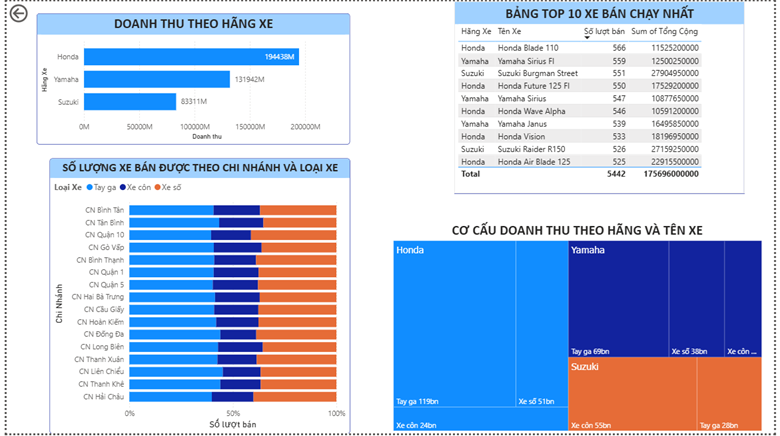

The page's visual inventory and layout, read from the dashboard file:
{"tool":"powerbi","page":{"name":"PHÂN TÍCH THEO SẢN PHẨM VÀ CHI NHANH","canvas":[1280,720],"ordinal":1},"visuals":[{"type":"clusteredBarChart","title":"DOANH THU THEO HÃNG XE","fields":{"Category":["he_thong_xe_may_KHB.Hãng Xe"],"Y":["Sum(he_thong_xe_may_KHB.Tổng Cộng)"]},"box":[49.9,19.2,522.5,219],"z":0},{"type":"treemap","title":"CƠ CẤU DOANH THU THEO HÃNG VÀ TÊN XE","fields":{"Group":["he_thong_xe_may_KHB.Hãng Xe"],"Details":["he_thong_xe_may_KHB.Loại Xe"],"Values":["Sum(he_thong_xe_may_KHB.Tổng Cộng)"]},"box":[639.7,361.1,624.3,359.2],"z":1},{"type":"hundredPercentStackedBarChart","title":"SỐ LƯỢNG XE BÁN ĐƯỢC THEO CHI NHÁNH VÀ LOẠI XE","fields":{"Category":["he_thong_xe_may_KHB.Chi Nhánh"],"Series":["he_thong_xe_may_KHB.Loại Xe"],"Y":["CountNonNull(he_thong_xe_may_KHB.ID Giao Dịch)"]},"box":[71.1,261.3,501.4,459.1],"z":2},{"type":"tableEx","title":"BẢNG TOP 10 XE BÁN CHẠY NHẤT","fields":{"Values":["he_thong_xe_may_KHB.Hãng Xe","he_thong_xe_may_KHB.Tên Xe","he_thong_xe_may_KHB.ID Giao Dịch","Sum(he_thong_xe_may_KHB.Tổng Cộng)"]},"box":[747.3,0,484.1,320.8],"z":3},{"type":"actionButton","box":[0,0,100,40],"z":4}]}

Visuals, with their boxes in screenshot pixels (x1, y1, x2, y2), scaled from the page's 1280x720 canvas onto the 780x436 screenshot:
"DOANH THU THEO HÃNG XE" clusteredBarChart: pyautogui.locateOnScreen(30, 12, 349, 144)
"CƠ CẤU DOANH THU THEO HÃNG VÀ TÊN XE" treemap: pyautogui.locateOnScreen(390, 219, 770, 435)
"SỐ LƯỢNG XE BÁN ĐƯỢC THEO CHI NHÁNH VÀ LOẠI XE" hundredPercentStackedBarChart: pyautogui.locateOnScreen(43, 158, 349, 435)
"BẢNG TOP 10 XE BÁN CHẠY NHẤT" tableEx: pyautogui.locateOnScreen(455, 0, 750, 194)
actionButton: pyautogui.locateOnScreen(0, 0, 61, 24)
